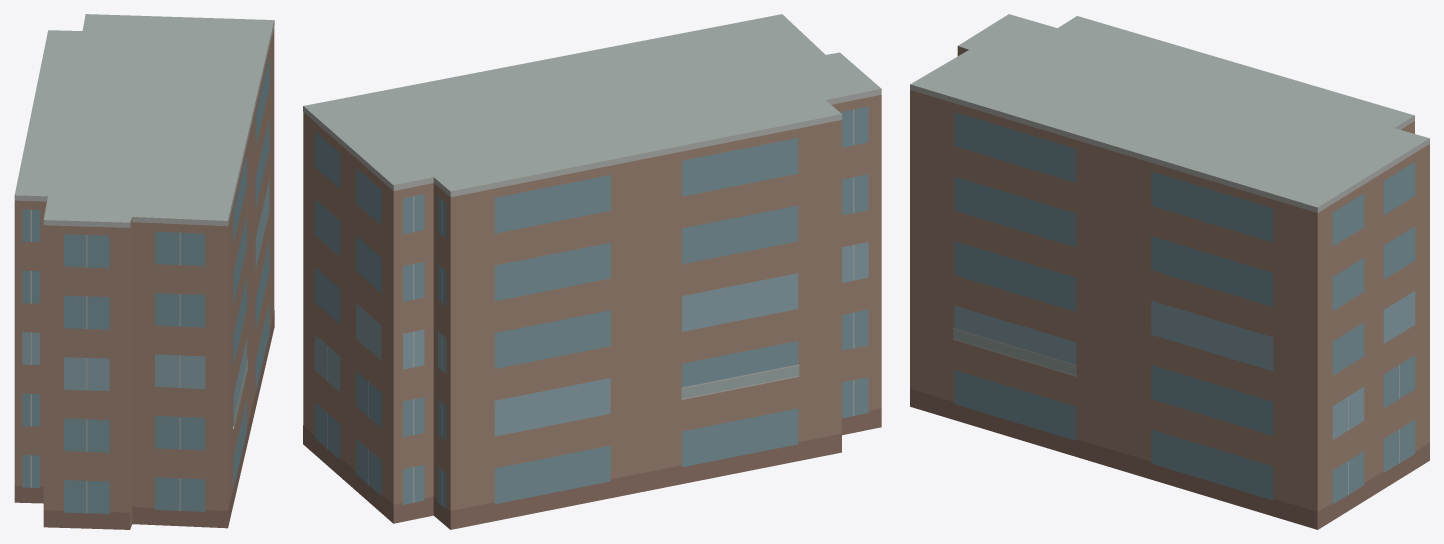
File: survey-upis-32955586.glb
3 views of the same model, side by side, from view 1: azimuth 30°, elevation 25°; view 2: azimuth 150°, elevation 25°; view 3: azimuth 270°, elevation 25° (orthographic). The views are drawn at different scales.
Visible parts, largest first — view 1: survey-upis-32955586.tmp; view 2: survey-upis-32955586.tmp; view 3: survey-upis-32955586.tmp.
Part boxes in pixels (x1,y1,x2,y2): survey-upis-32955586.tmp: (14,14,274,529); survey-upis-32955586.tmp: (303,14,881,529); survey-upis-32955586.tmp: (910,14,1429,529).
Bounding box in the file's own units: 18.43 × 14.3 × 20.91.
